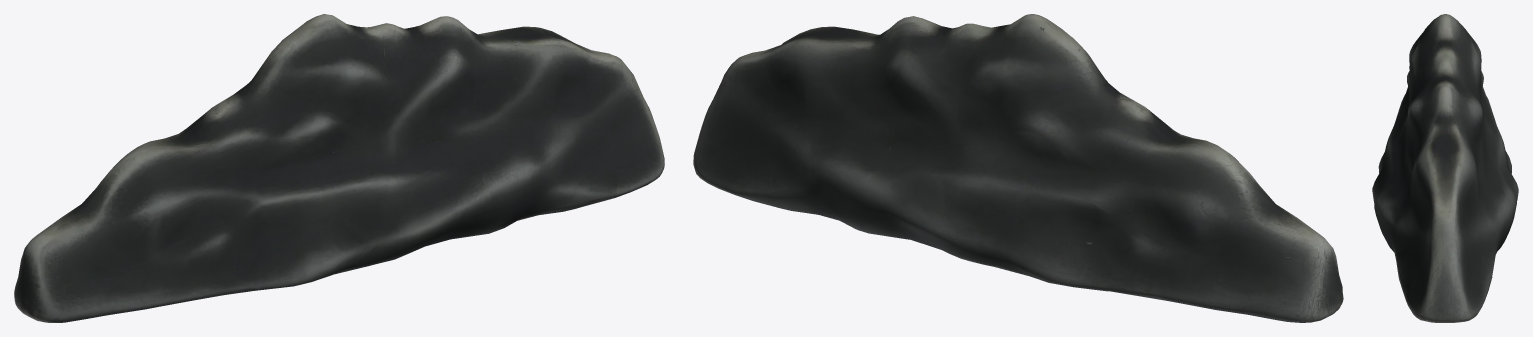
Rendered from sky.glb.
3 renders of one model, left to right at view 1: azimuth 30°, elevation 25°; view 2: azimuth 150°, elevation 25°; view 3: azimuth 270°, elevation 25°, orthographic. The views are drawn at different scales.
Size of the model in its own units: 1.9 by 0.6701 by 0.4796.
Materials: 1 (1 with a texture image).
